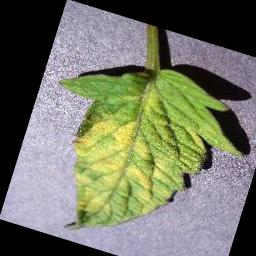Leaf_Mold: (47, 74, 220, 256)
